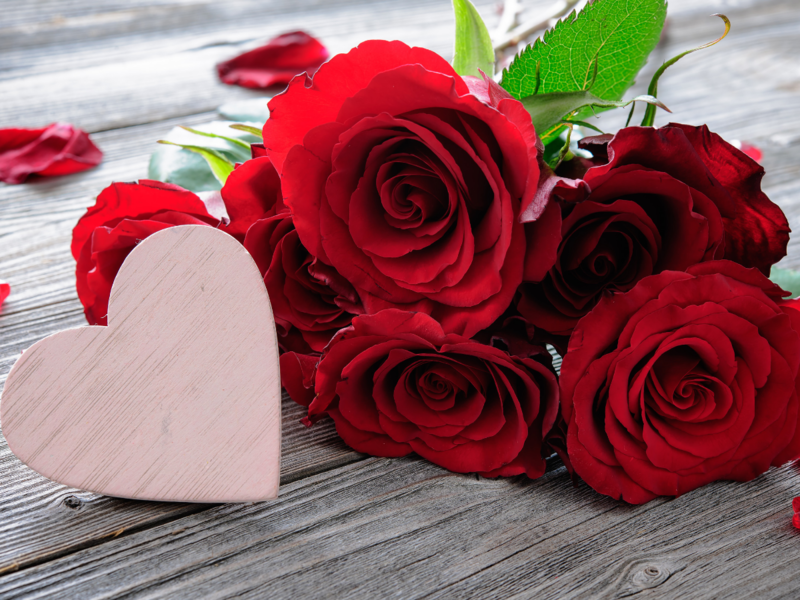rose: (263, 47, 544, 306), (566, 278, 800, 492), (314, 306, 559, 482), (568, 136, 781, 304), (227, 176, 364, 354)
